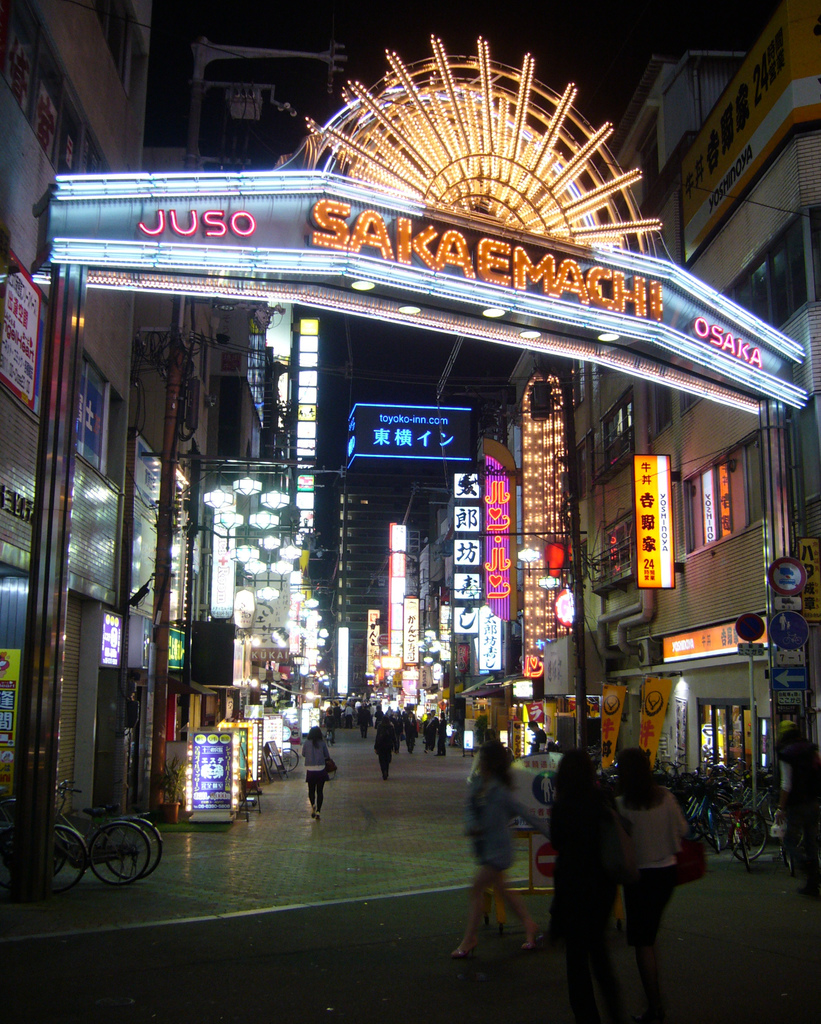Footwear: (524, 929, 551, 952), (459, 945, 482, 963)
